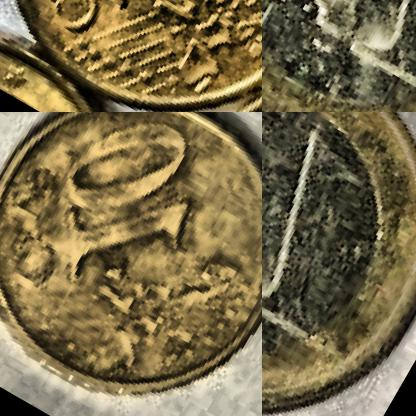coin: (0, 112, 261, 415), (262, 112, 415, 415), (0, 0, 261, 111), (262, 0, 415, 111)
